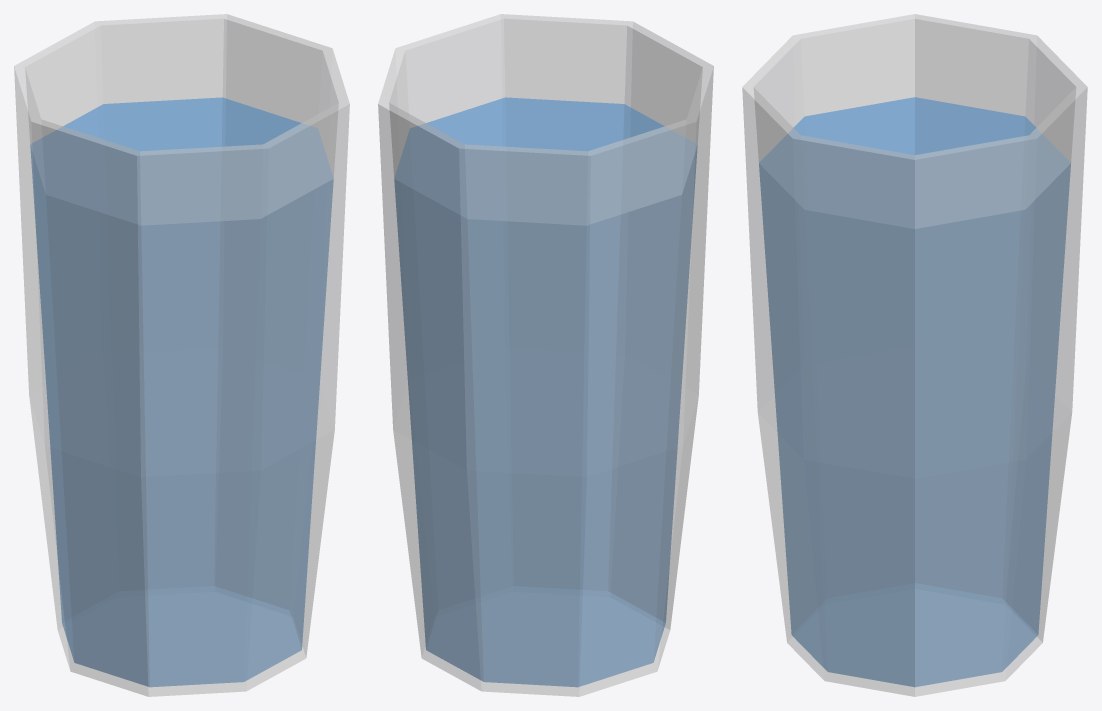
Rendered from glass_full.glb.
3 renders of one model, left to right at view 1: azimuth 30°, elevation 25°; view 2: azimuth 150°, elevation 25°; view 3: azimuth 270°, elevation 25°, orthographic.
Parts seen in each view (by area): view 1: Glass; view 2: Glass; view 3: Glass.
Boxes of the visible parts, x1,y1,x2,y2 form: Glass: (14,14,349,696); Glass: (378,14,713,696); Glass: (742,14,1087,696).
Size of the model in its own units: 0.0845 by 0.15 by 0.0845.
